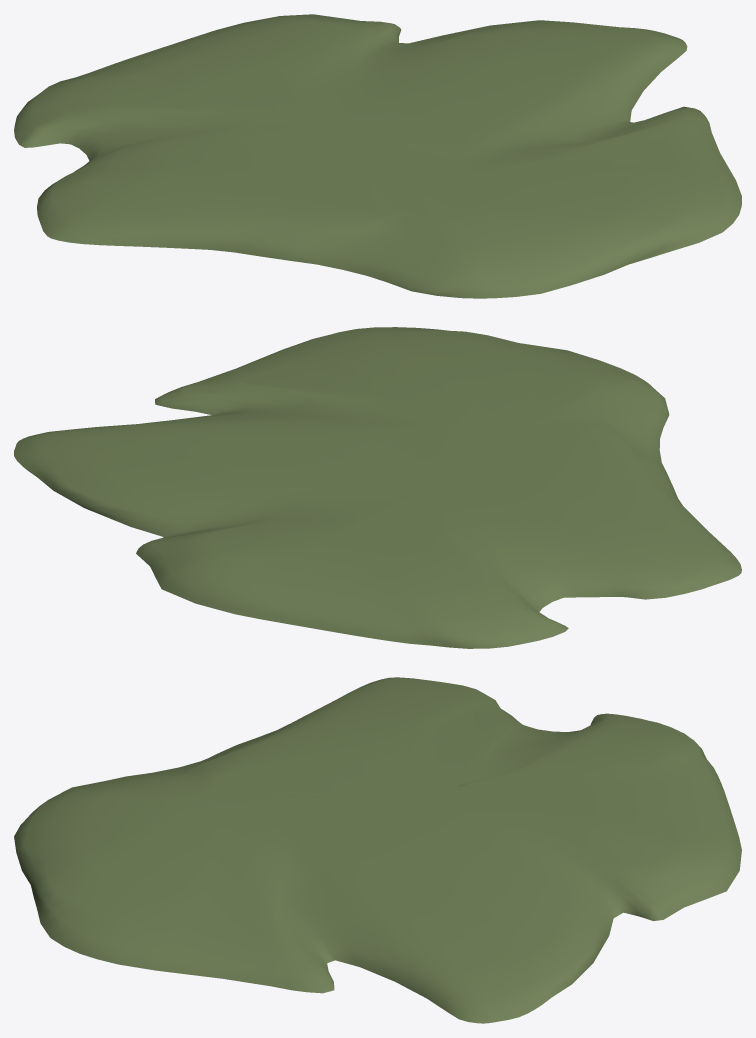
The model's file is Slime6fbx.fbx.
3 renders of one model, top to bottom at view 1: azimuth 30°, elevation 25°; view 2: azimuth 150°, elevation 25°; view 3: azimuth 270°, elevation 25°, orthographic. The views are drawn at different scales.
Parts seen in each view (by area): view 1: Slime6; view 2: Slime6; view 3: Slime6.
Part boxes in pixels (bbox=[...]): Slime6: bbox=[14, 14, 741, 298]; Slime6: bbox=[14, 327, 741, 648]; Slime6: bbox=[14, 677, 741, 1023].
Size of the model in its own units: 2.84 by 0.0979 by 2.52.
